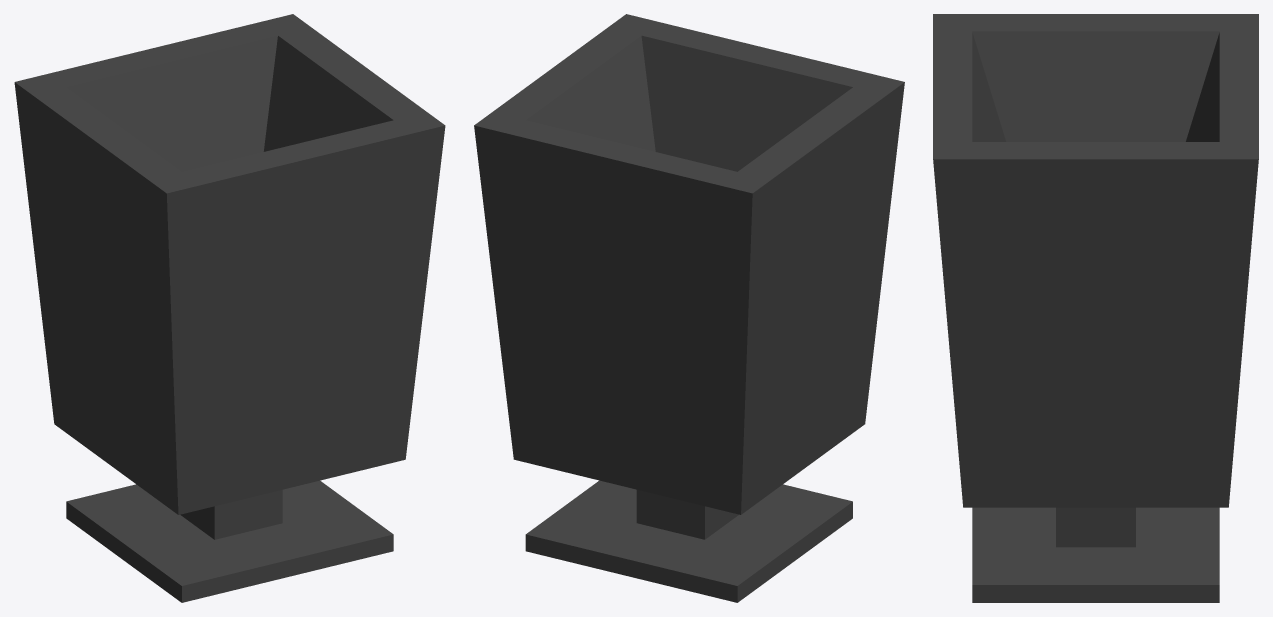
File: Dustbin_1.FBX
The picture shows the model from 3 angles, left to right: view 1: azimuth 30°, elevation 25°; view 2: azimuth 150°, elevation 25°; view 3: azimuth 270°, elevation 25°; orthographic projection. The views are drawn at different scales.
Visible parts, largest first — view 1: Dustbin 01; view 2: Dustbin 01; view 3: Dustbin 01.
Boxes of the visible parts, left/top/right/bottom form: Dustbin 01: left=14, top=14, right=445, bottom=602; Dustbin 01: left=474, top=14, right=904, bottom=602; Dustbin 01: left=933, top=14, right=1258, bottom=602.
Size of the model in its own units: 0.4616 by 0.6824 by 0.437.
Materials: 1 (1 with a texture image).
